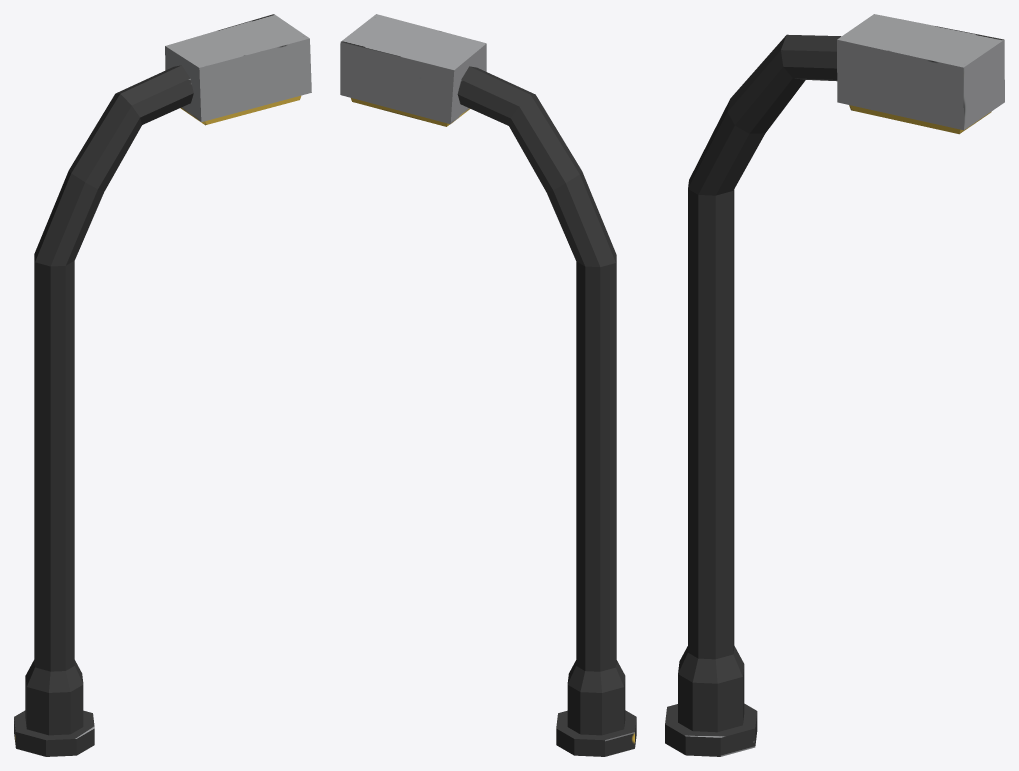
File: StreetLamp.fbx
3 renders of one model, left to right at view 1: azimuth 30°, elevation 25°; view 2: azimuth 150°, elevation 25°; view 3: azimuth 330°, elevation 25°, orthographic. The views are drawn at different scales.
Visible parts, largest first — view 1: Streetlght; view 2: Streetlght; view 3: Streetlght.
Part boxes in pixels (x1=…): Streetlght: x1=14, y1=14, x2=311, y2=756; Streetlght: x1=340, y1=14, x2=636, y2=756; Streetlght: x1=665, y1=14, x2=1004, y2=756.
Size of the model in its own units: 24.81 by 201 by 89.26.
